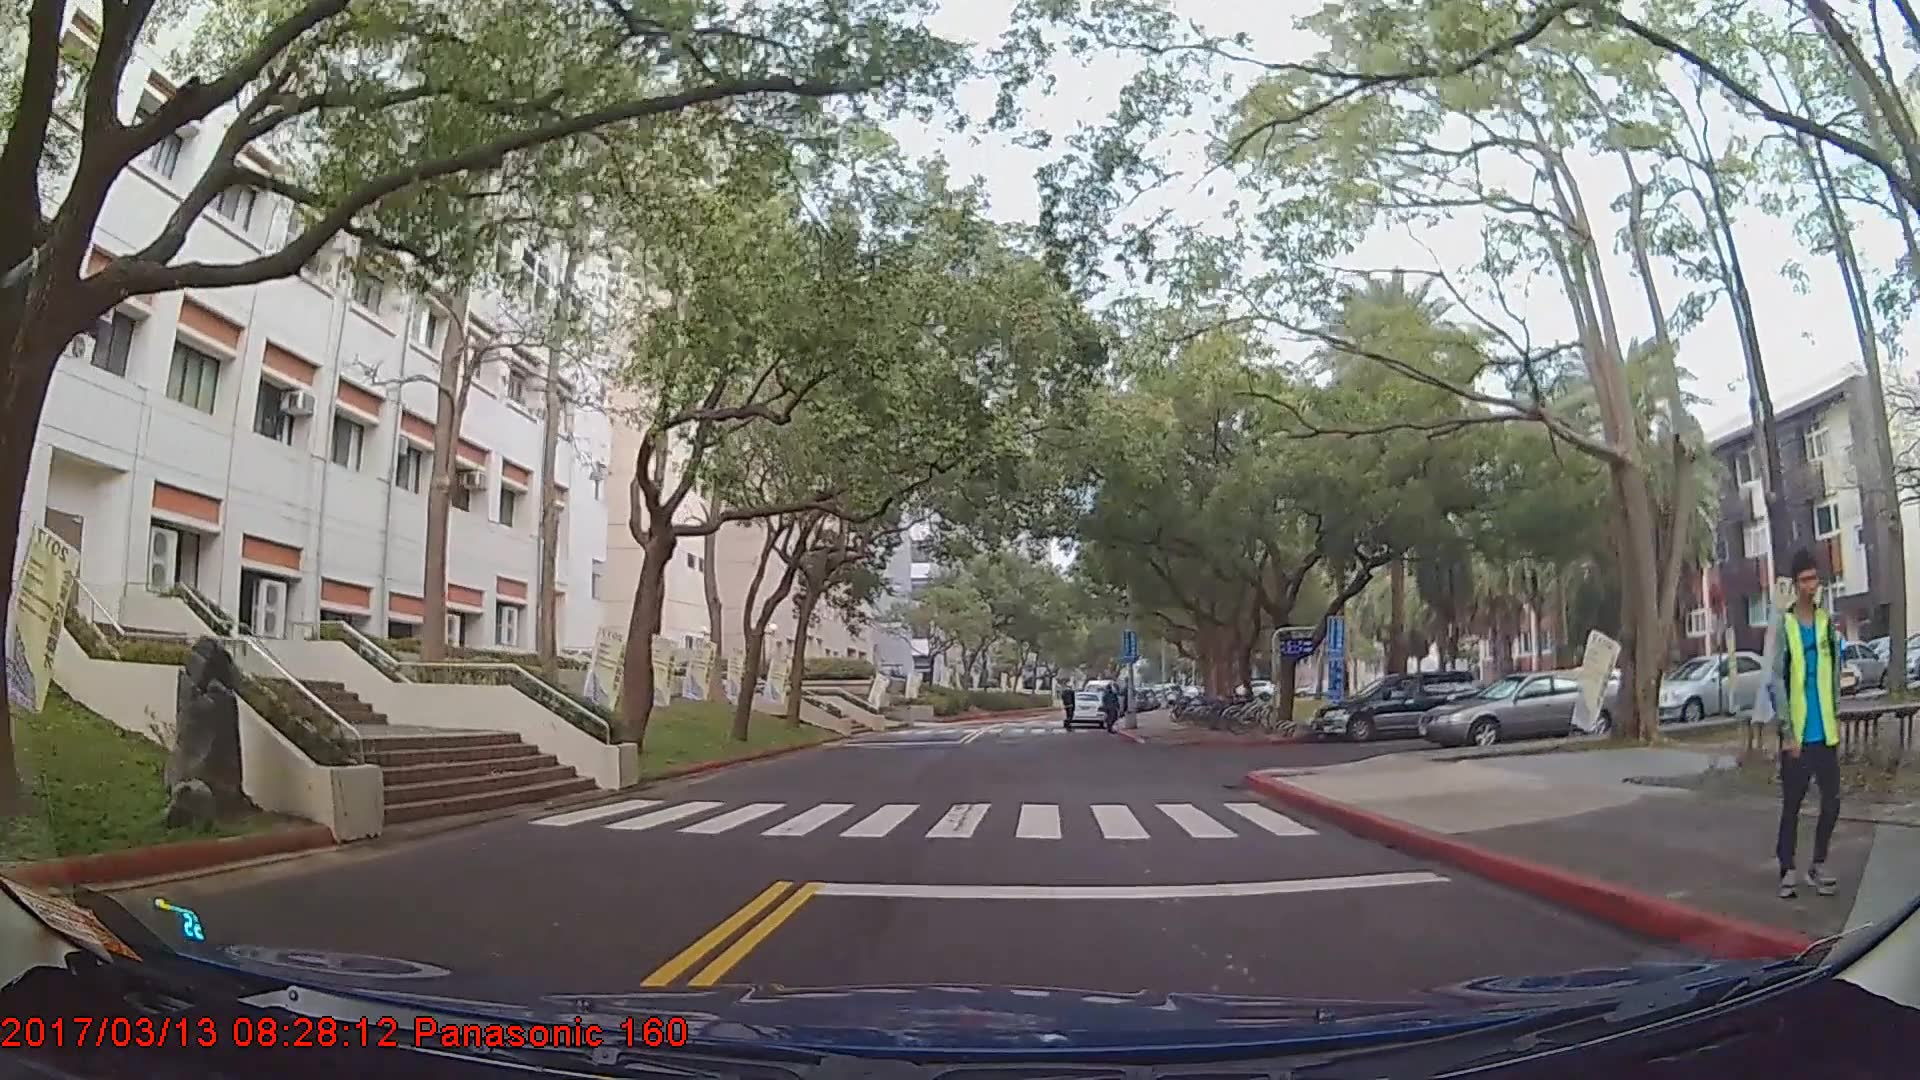pedestrian: (1764, 550, 1845, 903), (1816, 613, 1850, 706), (1103, 685, 1123, 735), (1060, 684, 1080, 736)
vehicle: (1418, 669, 1629, 748), (1311, 668, 1483, 740), (1644, 652, 1791, 724), (1796, 639, 1888, 695), (1060, 690, 1107, 729)
